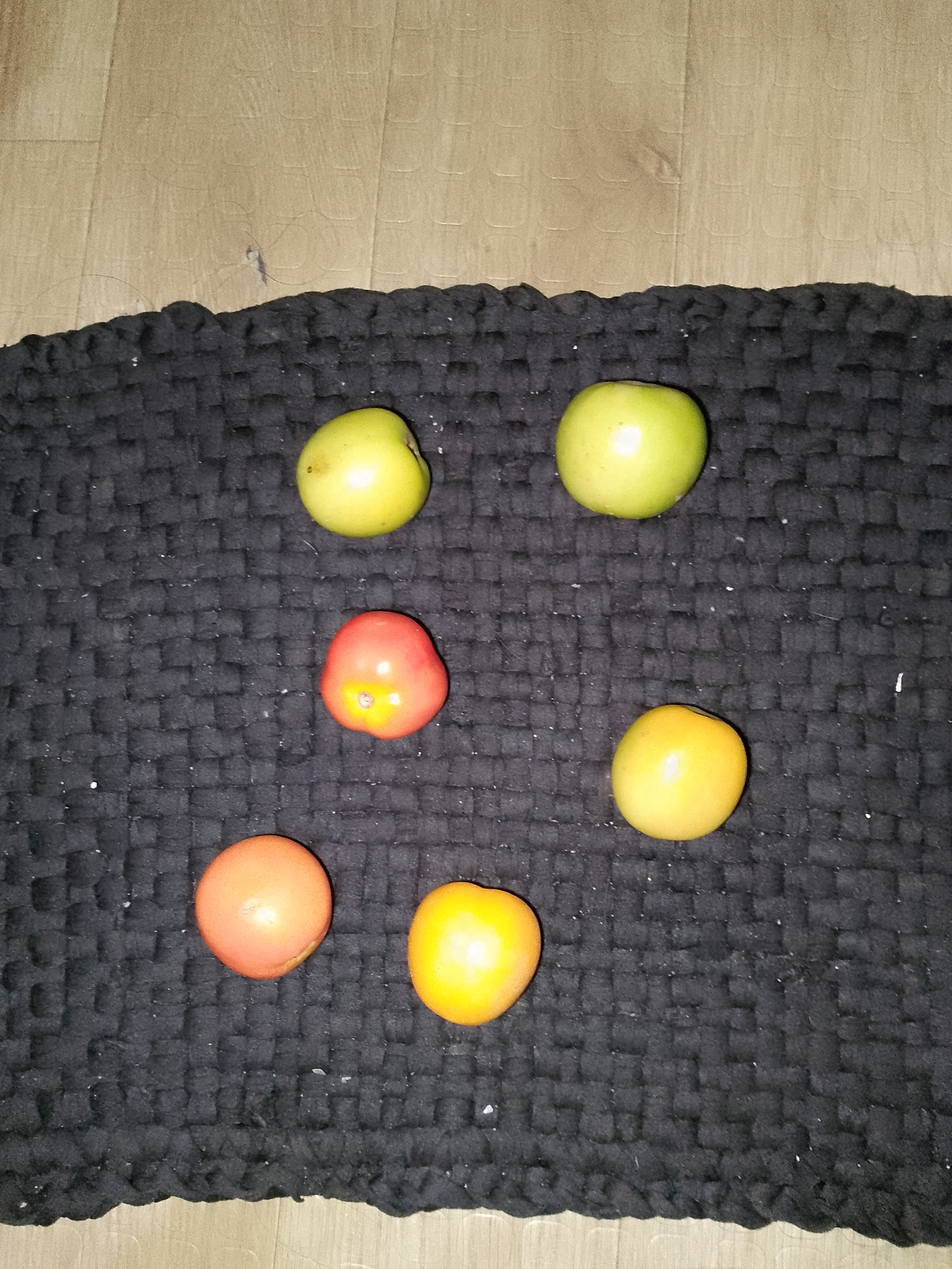Ripe: (151, 815, 356, 999), (296, 589, 480, 755), (384, 864, 558, 1038)
Unripe: (527, 353, 729, 519), (589, 672, 763, 849), (278, 387, 446, 540)
